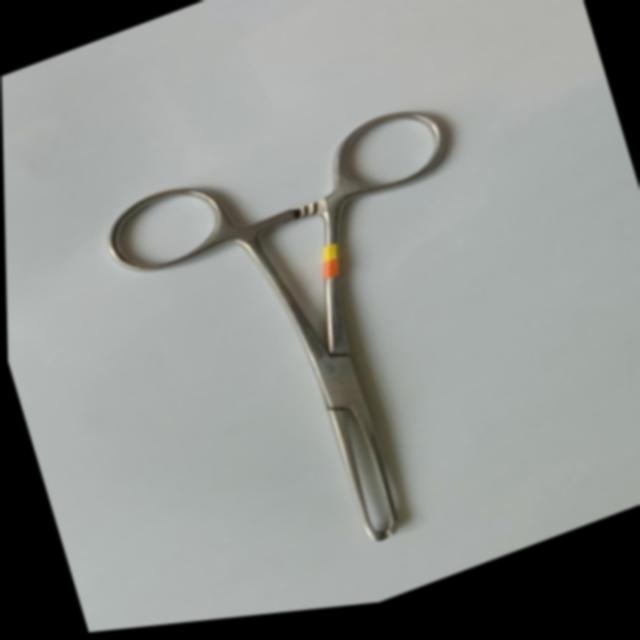AllisForcep: (89, 85, 556, 618)
